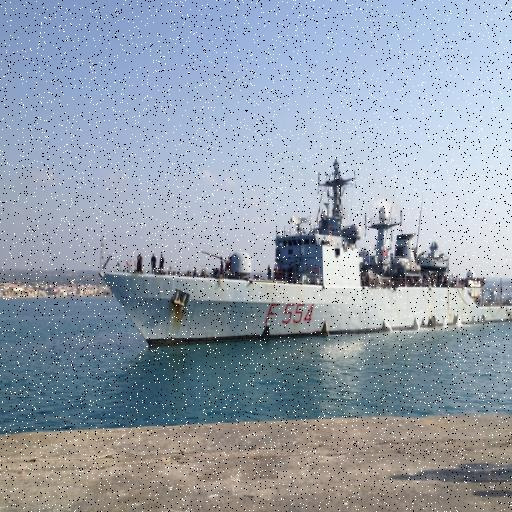Fragata: (95, 157, 512, 355)
